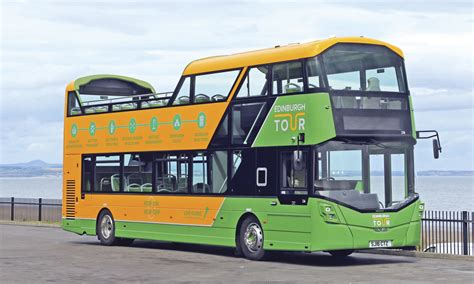bus: (65, 38, 423, 256)
